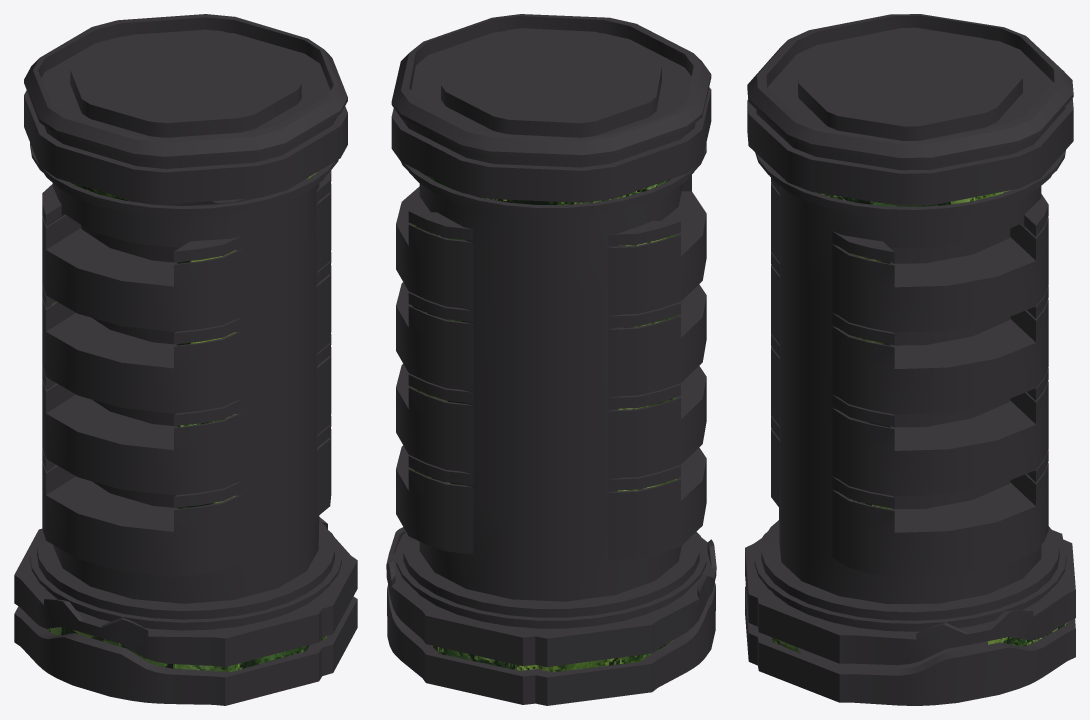
Rendered from garden_cylinder_03.glb.
The picture shows the model from 3 angles, left to right: view 1: azimuth 30°, elevation 25°; view 2: azimuth 150°, elevation 25°; view 3: azimuth 270°, elevation 25°; orthographic projection.
Visible parts, largest first — view 1: garden_cylinder_03; view 2: garden_cylinder_03; view 3: garden_cylinder_03.
Boxes of the visible parts, <box> form: garden_cylinder_03: <box>14,14,357,705</box>; garden_cylinder_03: <box>386,14,716,705</box>; garden_cylinder_03: <box>745,14,1075,705</box>.
Bounding box in the file's own units: 2 × 3.68 × 1.97.
Materials: 2 (1 with a texture image).
